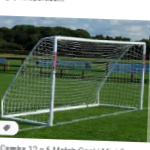goals: (1, 33, 148, 129)
